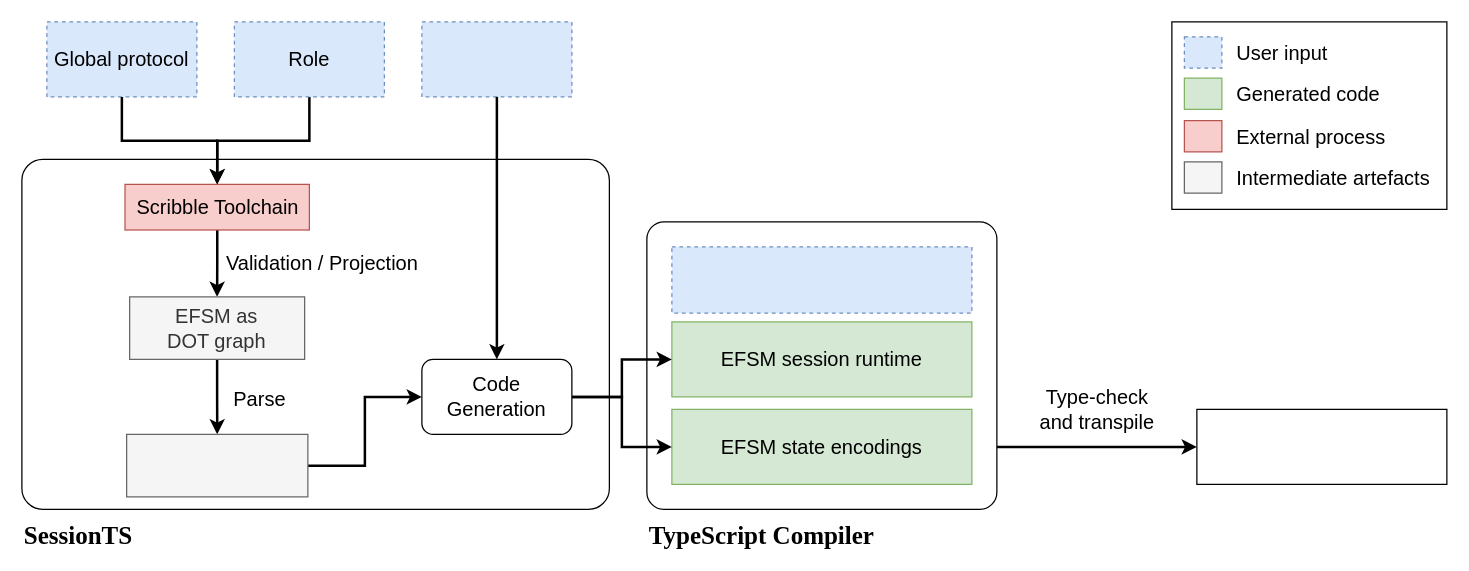
Image size: 1469x571. Some labels were removed from this diagram. Here are the shapes that lost their labels. From the top down, the centre of each, then its label:
the point at 496,59: Target
the point at 821,279: User implementation
the point at 216,465: Internal Endpoint Representation
the point at 1321,446: JavaScript / WebSocket endpoint program
